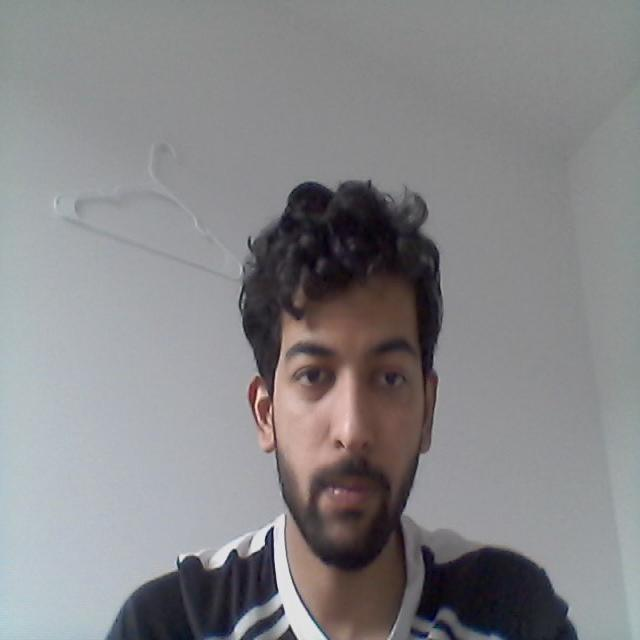nocap: (219, 154, 453, 386)
